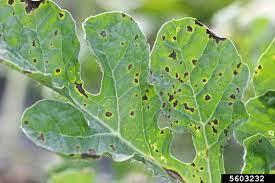Bok-Choy-Diseased: (152, 22, 243, 141)
